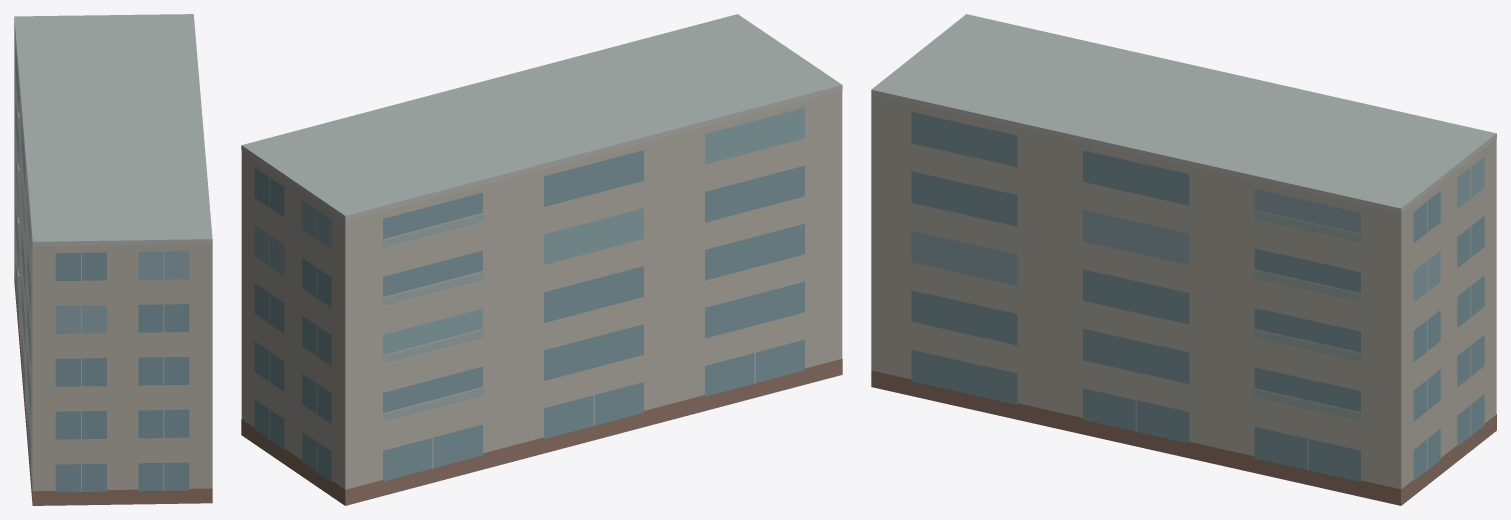
File: survey-upis-32687057.glb
3 renders of one model, left to right at view 1: azimuth 30°, elevation 25°; view 2: azimuth 150°, elevation 25°; view 3: azimuth 270°, elevation 25°, orthographic. The views are drawn at different scales.
Parts seen in each view (by area): view 1: survey-upis-32687057.tmp; view 2: survey-upis-32687057.tmp; view 3: survey-upis-32687057.tmp.
Part boxes in pixels (left/top/right/bottom): survey-upis-32687057.tmp: left=14, top=14, right=212, bottom=505; survey-upis-32687057.tmp: left=241, top=14, right=842, bottom=505; survey-upis-32687057.tmp: left=871, top=14, right=1496, bottom=505.
Bounding box in the file's own units: 19.24 × 13.7 × 26.13.
